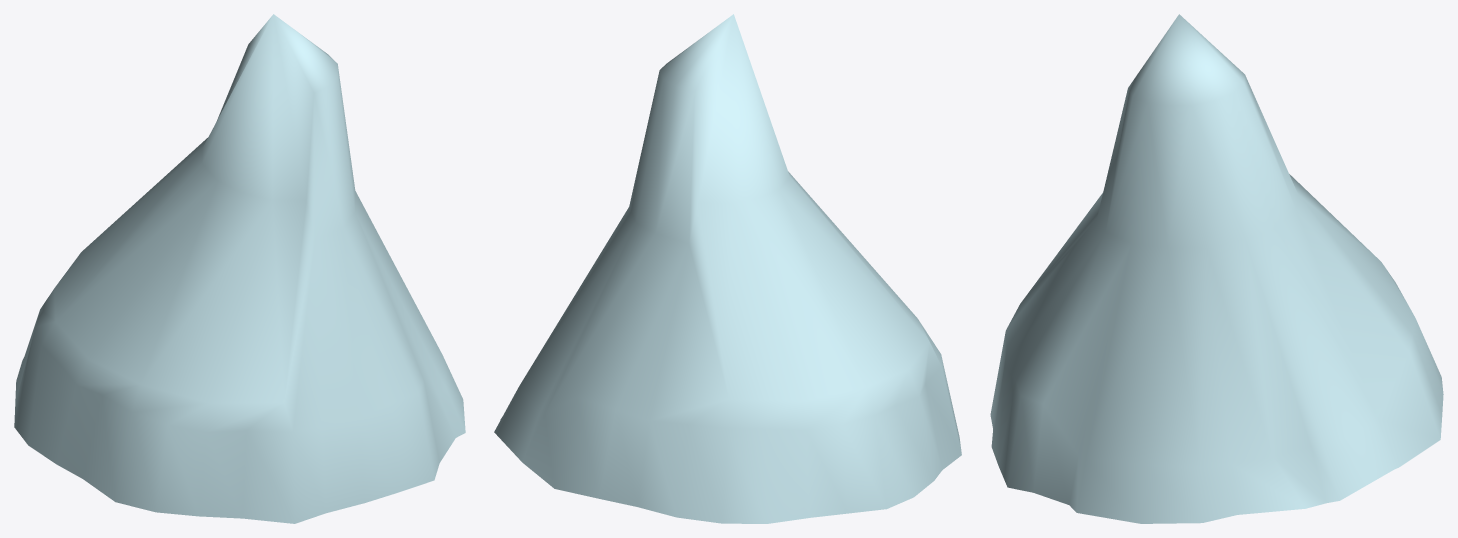
Rendered from iceberg00.FBX.
3 renders of one model, left to right at view 1: azimuth 30°, elevation 25°; view 2: azimuth 150°, elevation 25°; view 3: azimuth 270°, elevation 25°, orthographic. The views are drawn at different scales.
Visible parts, largest first — view 1: Boîte002; view 2: Boîte002; view 3: Boîte002.
Part boxes in pixels (<box>): Boîte002: <box>14,14,465,523</box>; Boîte002: <box>494,14,961,523</box>; Boîte002: <box>990,14,1443,523</box>.
Size of the model in its own units: 436 by 449 by 423.
